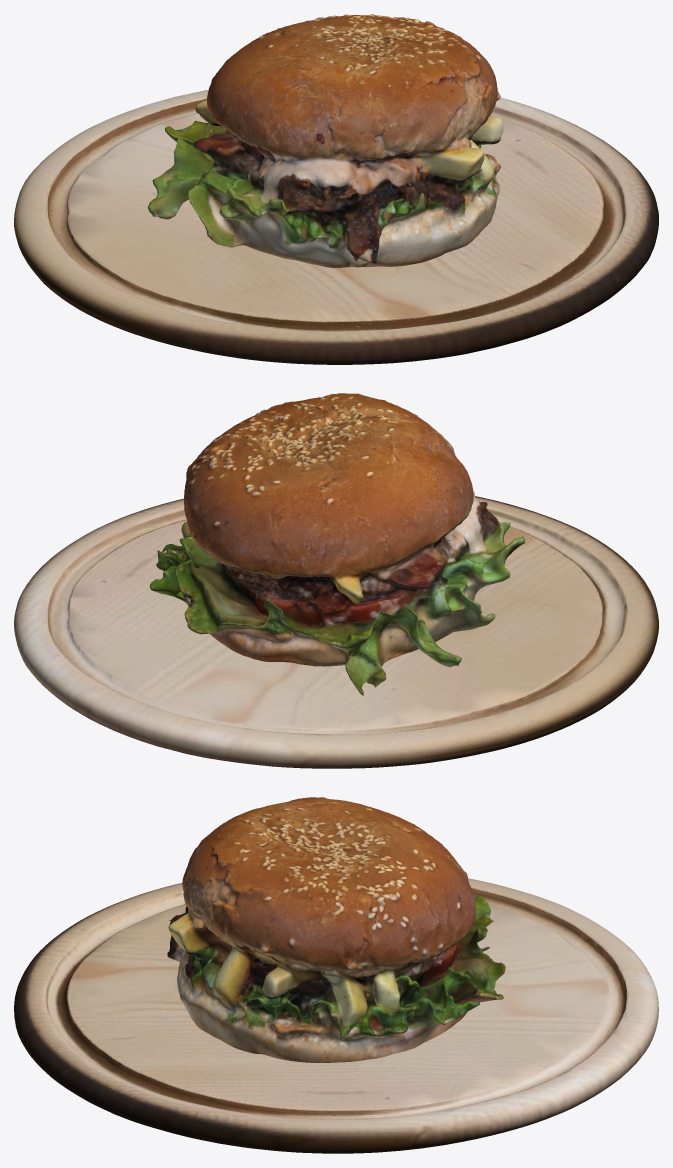
The model's file is Royal.burger.glb.
The picture shows the model from 3 angles, top to bottom: view 1: azimuth 30°, elevation 25°; view 2: azimuth 150°, elevation 25°; view 3: azimuth 270°, elevation 25°; orthographic projection.
Parts seen in each view (by area): view 1: Submesh_0.001, 3DModel; view 2: Submesh_0.001, 3DModel; view 3: Submesh_0.001, 3DModel.
Boxes of the visible parts, x1,y1,x2,y2 form: Submesh_0.001: [14, 89, 658, 364]; 3DModel: [148, 14, 503, 267]; Submesh_0.001: [14, 496, 658, 768]; 3DModel: [149, 393, 524, 695]; Submesh_0.001: [14, 878, 658, 1153]; 3DModel: [167, 797, 505, 1062].
Bounding box in the file's own units: 0.2887 × 0.0988 × 0.2887.
Materials: 2 (2 with a texture image).
